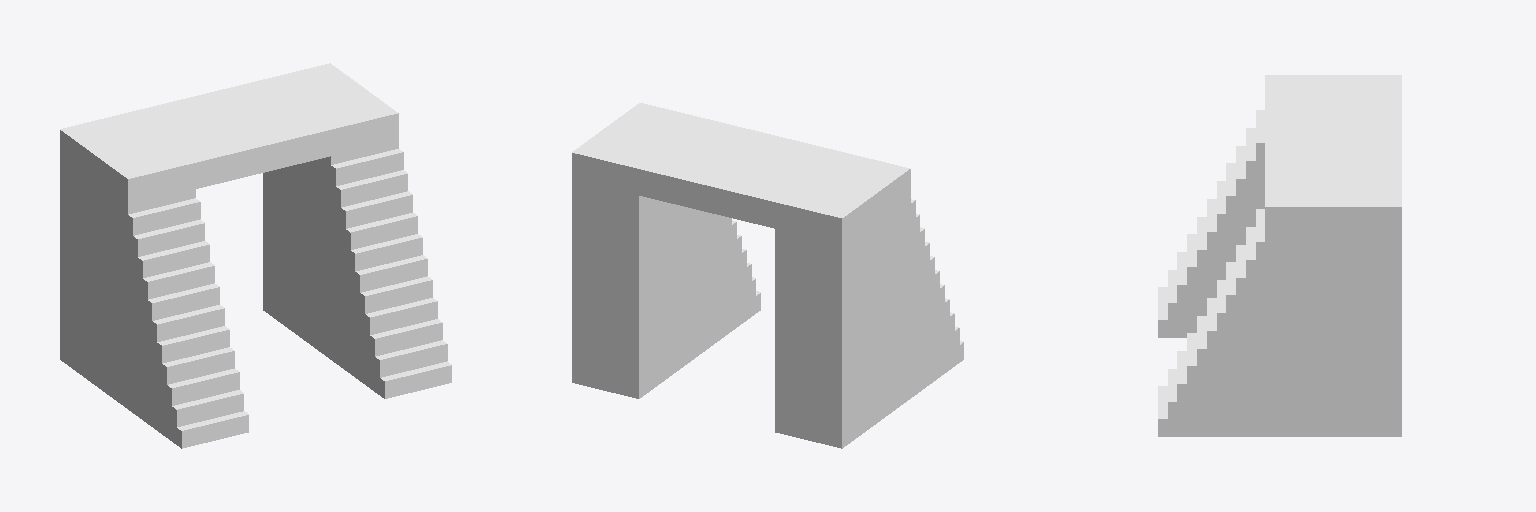
The model's file is DoorwayV2.obj.
3 views of the same model, side by side, from view 1: azimuth 30°, elevation 25°; view 2: azimuth 150°, elevation 25°; view 3: azimuth 270°, elevation 25° (orthographic).
Parts seen in each view (by area): view 1: object 1; view 2: object 1; view 3: object 1.
Part boxes in pixels (bbox=[...]): object 1: bbox=[60, 63, 451, 448]; object 1: bbox=[572, 103, 963, 448]; object 1: bbox=[1158, 75, 1401, 436].
Bounding box in the file's own units: 3.2 × 2.6 × 2.5.